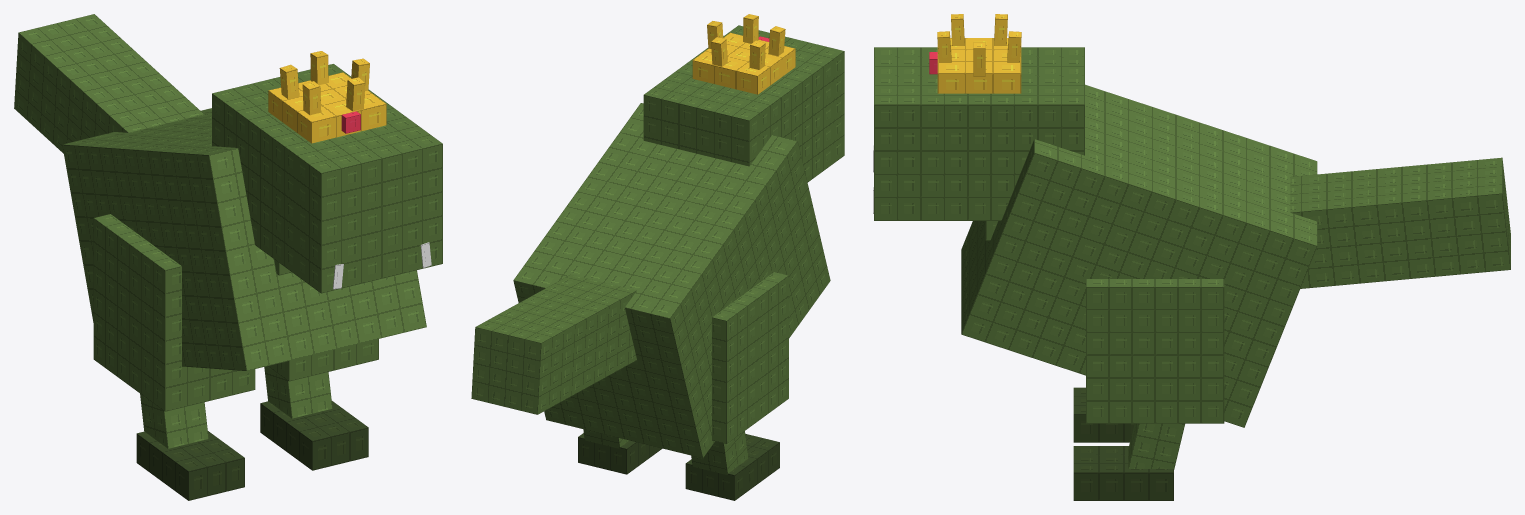
The picture shows the model from 3 angles, left to right: view 1: azimuth 30°, elevation 25°; view 2: azimuth 150°, elevation 25°; view 3: azimuth 270°, elevation 25°; orthographic projection. The views are drawn at different scales.
Visible parts, largest first — view 1: T-Rex; view 2: T-Rex; view 3: T-Rex.
Boxes of the visible parts, x1,y1,x2,y2 form: T-Rex: (14,14,442,500); T-Rex: (471,14,844,500); T-Rex: (873,14,1510,500).
Size of the model in its own units: 2.57 by 5.1 by 6.86.
Materials: 1 (1 with a texture image).
